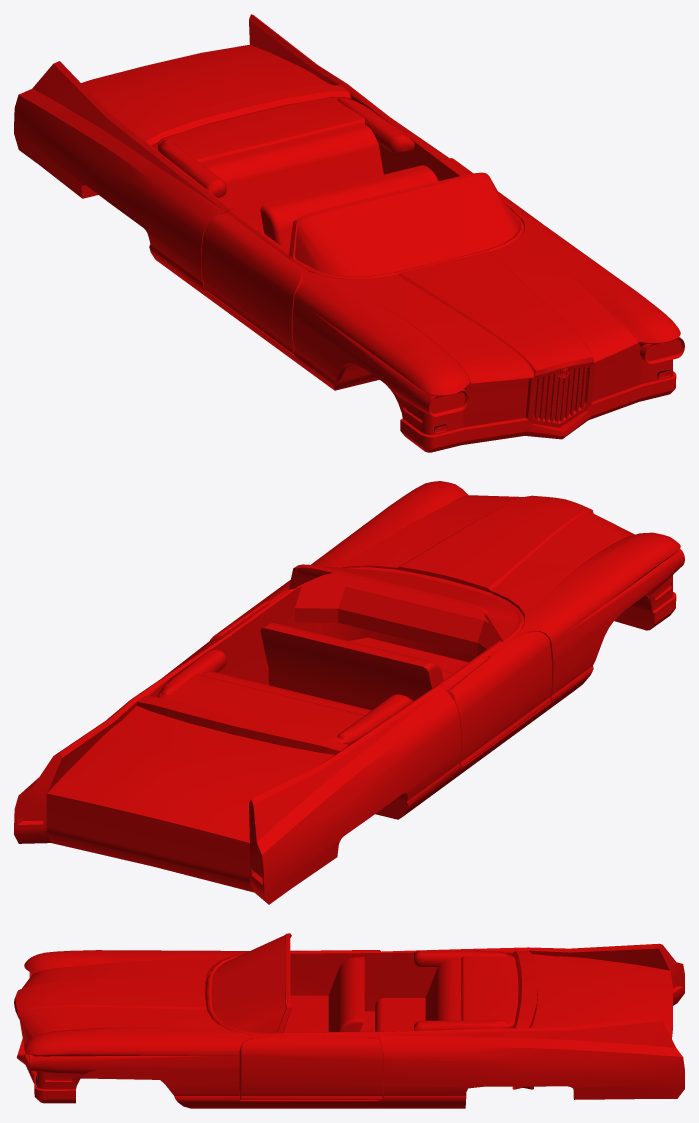
Rendered from Body_1.fbx.
3 renders of one model, top to bottom at view 1: azimuth 30°, elevation 25°; view 2: azimuth 150°, elevation 25°; view 3: azimuth 270°, elevation 25°, orthographic. The views are drawn at different scales.
Visible parts, largest first — view 1: Body; view 2: Body; view 3: Body.
Part boxes in pixels (x1,y1,x2,y2): Body: (14,14,684,452); Body: (14,481,684,904); Body: (14,933,684,1108).
Size of the model in its own units: 1.83 by 0.8321 by 5.22.
